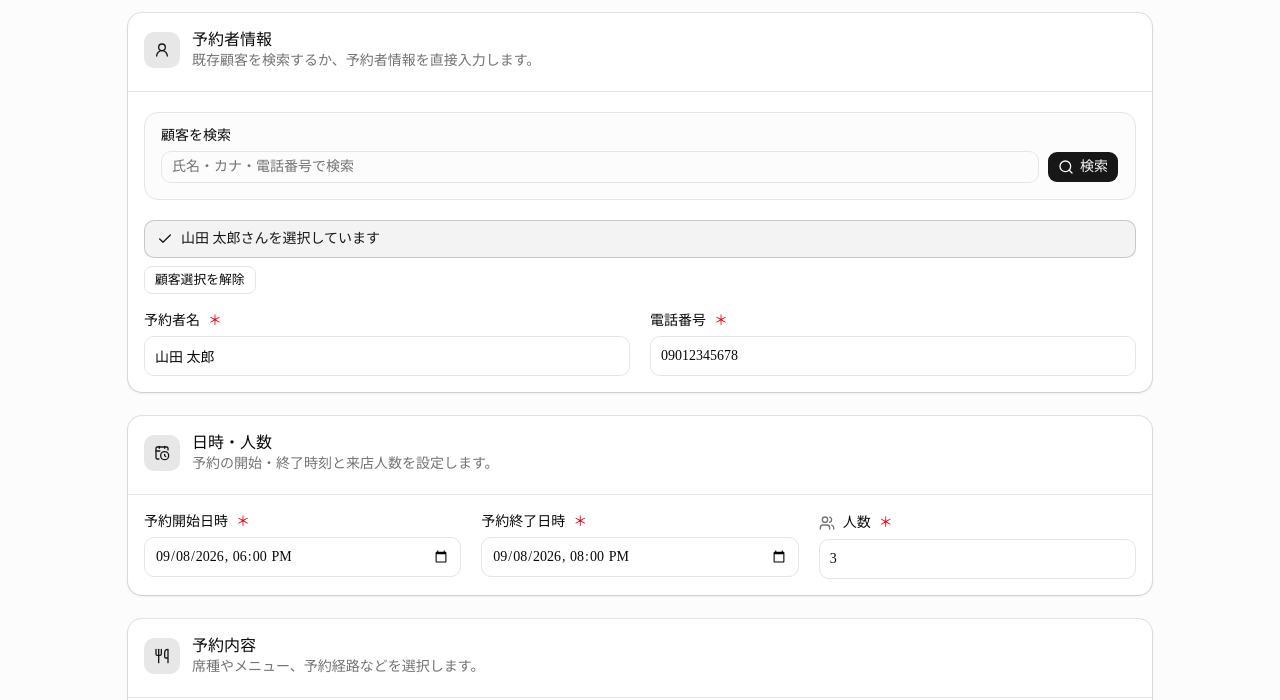
Test: EditReservationFormContainer › 予約情報の更新に失敗すると、APIのエラーメッセージを表示する
Step 1. Replace the text in the number field labelled "人数 ＊" with "4" → (977, 559), box [819, 539, 1136, 579]
(page scrolled)
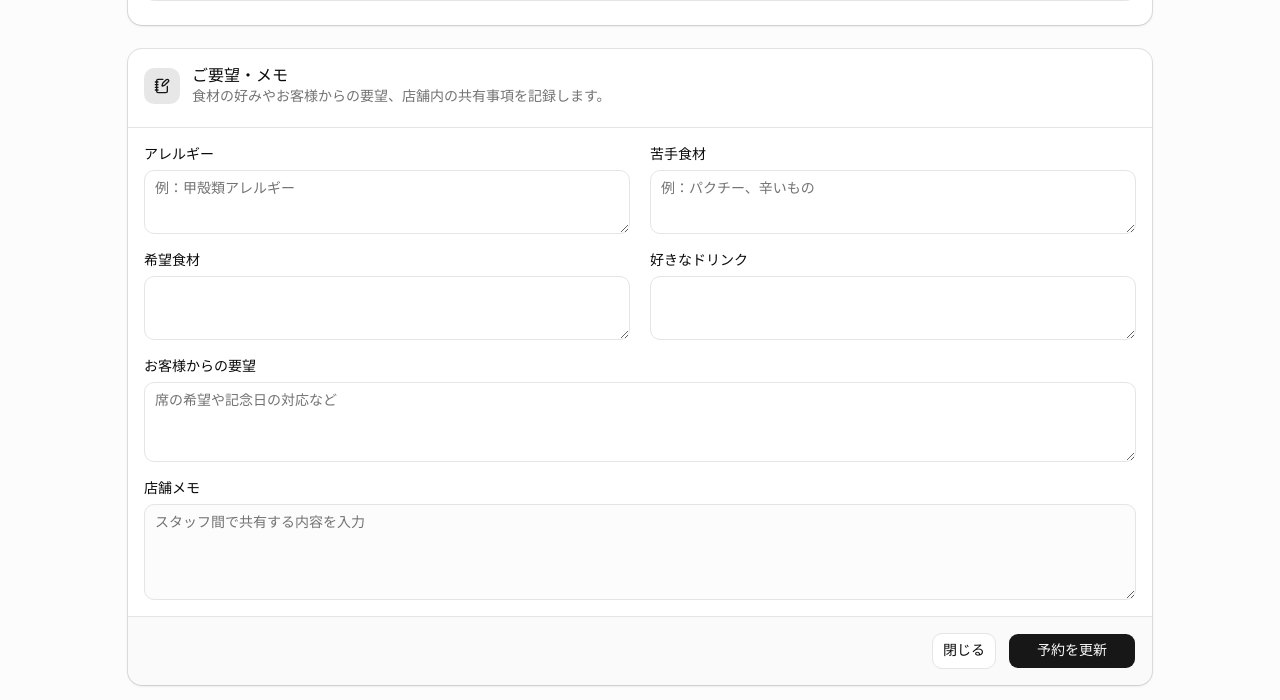
Step 2. Click the button "予約を更新" → (1072, 651), box [1008, 633, 1136, 669]
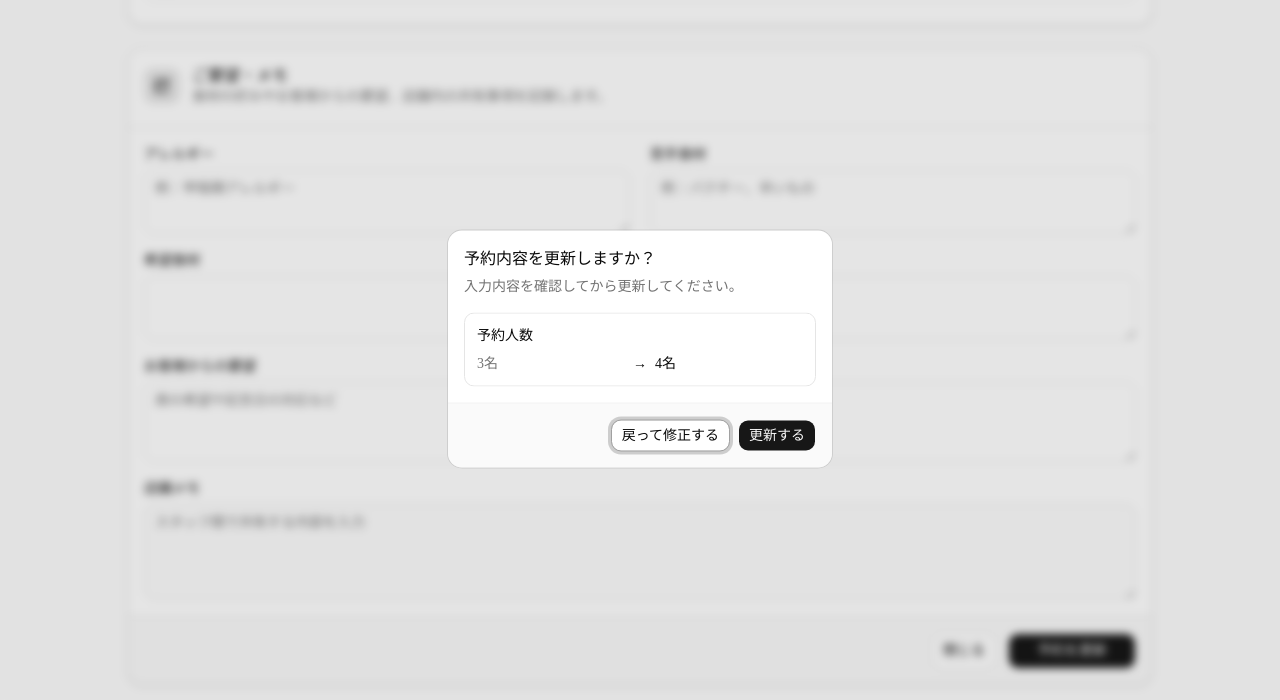
Step 3. Click the button "更新する" → (777, 436), box [738, 420, 816, 452]
(page scrolled)
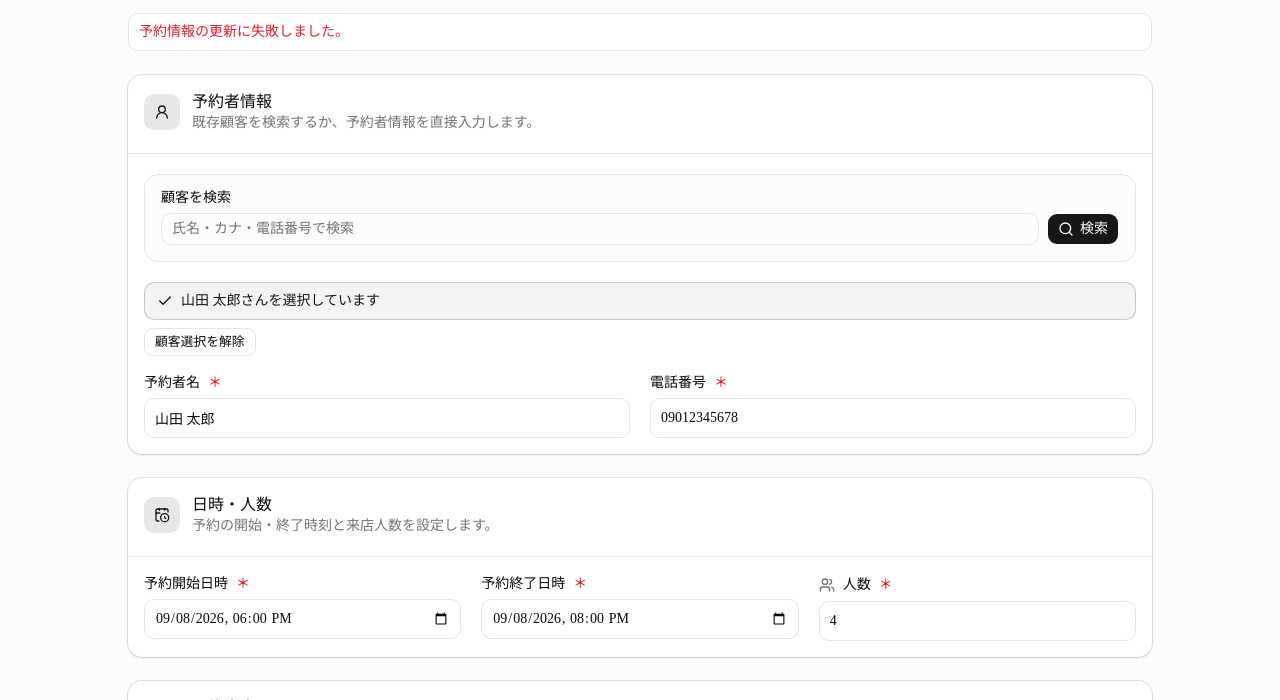
Expected: the text "予約情報の更新に失敗しました。" is shown, [139, 24, 349, 39]
